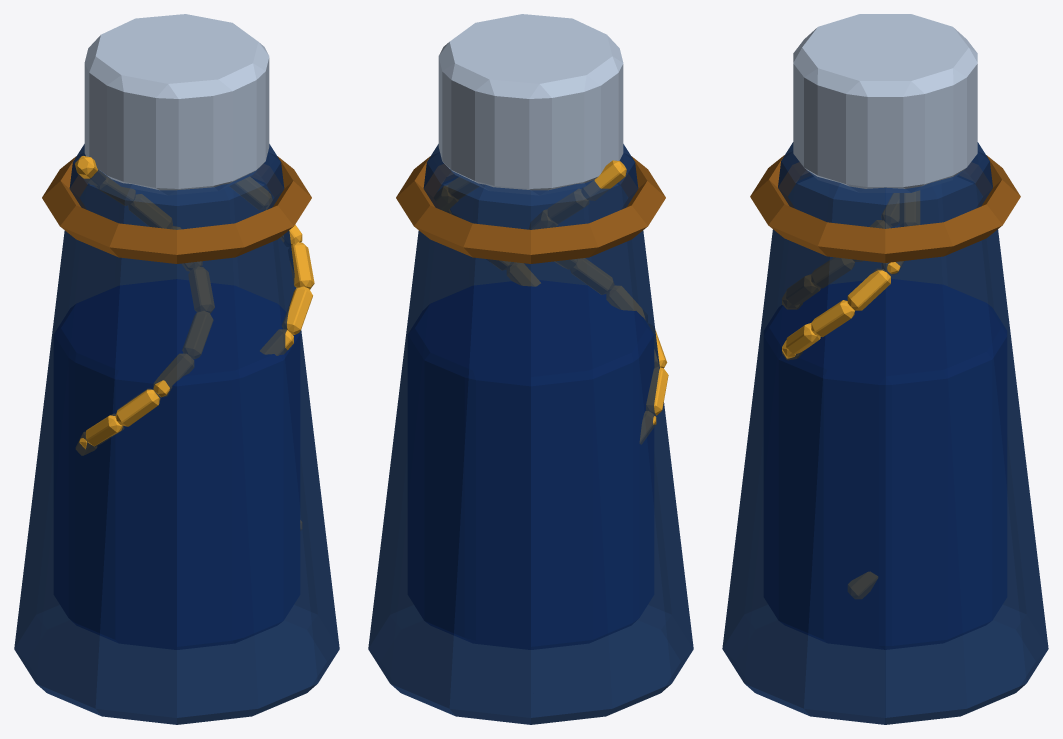
Rendered from vial_of_second_breath.obj.
3 views of the same model, side by side, from view 1: azimuth 30°, elevation 25°; view 2: azimuth 150°, elevation 25°; view 3: azimuth 270°, elevation 25° (orthographic).
Parts seen in each view (by area): view 1: SecondBreath_Bottle.001_MAT_GlassBlue, SecondBreath_Liquid.001_MAT_LiquidBlue, SecondBreath_Stopper.001_MAT_Pearl, SecondBreath_Band.001_MAT_OldGold, BreathSpiral0_06.001_MAT_BrightGold, BreathSpiral1_08.001_MAT_BrightGold, BreathSpiral0_09.001_MAT_BrightGold, BreathSpiral0_07.001_MAT_BrightGold, BreathSpiral0_08.001_MAT_BrightGold, BreathSpiral1_09.001_MAT_BrightGold, BreathSpiral0_11.001_MAT_BrightGold, BreathSpiral1_11.001_MAT_BrightGold (+4 smaller); view 2: SecondBreath_Bottle.001_MAT_GlassBlue, SecondBreath_Liquid.001_MAT_LiquidBlue, SecondBreath_Stopper.001_MAT_Pearl, SecondBreath_Band.001_MAT_OldGold, BreathSpiral0_13.001_MAT_BrightGold, BreathSpiral0_08.001_MAT_BrightGold, BreathSpiral0_12.001_MAT_BrightGold, BreathSpiral0_05.001_MAT_BrightGold, BreathSpiral0_07.001_MAT_BrightGold; view 3: SecondBreath_Bottle.001_MAT_GlassBlue, SecondBreath_Liquid.001_MAT_LiquidBlue, SecondBreath_Stopper.001_MAT_Pearl, SecondBreath_Band.001_MAT_OldGold, BreathSpiral1_10.001_MAT_BrightGold, BreathSpiral1_09.001_MAT_BrightGold, BreathSpiral0_09.001_MAT_BrightGold, BreathSpiral1_12.001_MAT_BrightGold, BreathSpiral1_08.001_MAT_BrightGold, BreathSpiral0_08.001_MAT_BrightGold, BreathSpiral1_00.001_MAT_BrightGold.
Part boxes in pixels (x1,y1,x2,y2): SecondBreath_Bottle.001_MAT_GlassBlue: (14, 144, 339, 724); SecondBreath_Liquid.001_MAT_LiquidBlue: (54, 279, 299, 649); SecondBreath_Stopper.001_MAT_Pearl: (84, 14, 269, 195); SecondBreath_Band.001_MAT_OldGold: (42, 156, 311, 263); BreathSpiral0_06.001_MAT_BrightGold: (115, 389, 160, 426); BreathSpiral1_08.001_MAT_BrightGold: (282, 286, 312, 334); BreathSpiral0_09.001_MAT_BrightGold: (188, 266, 214, 313); BreathSpiral0_07.001_MAT_BrightGold: (153, 354, 193, 397); BreathSpiral0_08.001_MAT_BrightGold: (182, 311, 212, 358); BreathSpiral1_09.001_MAT_BrightGold: (290, 242, 314, 289); BreathSpiral0_11.001_MAT_BrightGold: (128, 194, 172, 228); BreathSpiral1_11.001_MAT_BrightGold: (229, 177, 272, 209); SecondBreath_Bottle.001_MAT_GlassBlue: (368, 144, 693, 724); SecondBreath_Liquid.001_MAT_LiquidBlue: (408, 280, 653, 649); SecondBreath_Stopper.001_MAT_Pearl: (438, 14, 623, 195); SecondBreath_Band.001_MAT_OldGold: (396, 156, 665, 263); BreathSpiral0_13.001_MAT_BrightGold: (581, 160, 626, 200); BreathSpiral0_08.001_MAT_BrightGold: (570, 258, 613, 294); BreathSpiral0_12.001_MAT_BrightGold: (548, 189, 588, 223); BreathSpiral0_05.001_MAT_BrightGold: (646, 367, 668, 415); BreathSpiral0_07.001_MAT_BrightGold: (606, 285, 644, 318); SecondBreath_Bottle.001_MAT_GlassBlue: (722, 142, 1048, 724); SecondBreath_Liquid.001_MAT_LiquidBlue: (764, 279, 1006, 649); SecondBreath_Stopper.001_MAT_Pearl: (793, 14, 977, 192); SecondBreath_Band.001_MAT_OldGold: (750, 155, 1020, 262); BreathSpiral1_10.001_MAT_BrightGold: (847, 269, 890, 310); BreathSpiral1_09.001_MAT_BrightGold: (811, 300, 854, 337); BreathSpiral0_09.001_MAT_BrightGold: (811, 257, 854, 287); BreathSpiral1_12.001_MAT_BrightGold: (900, 191, 919, 226); BreathSpiral1_08.001_MAT_BrightGold: (786, 323, 820, 354); BreathSpiral0_08.001_MAT_BrightGold: (786, 275, 820, 305); BreathSpiral1_00.001_MAT_BrightGold: (848, 572, 877, 598).
Size of the model in its own units: 0.9513 by 1.98 by 0.9513.
